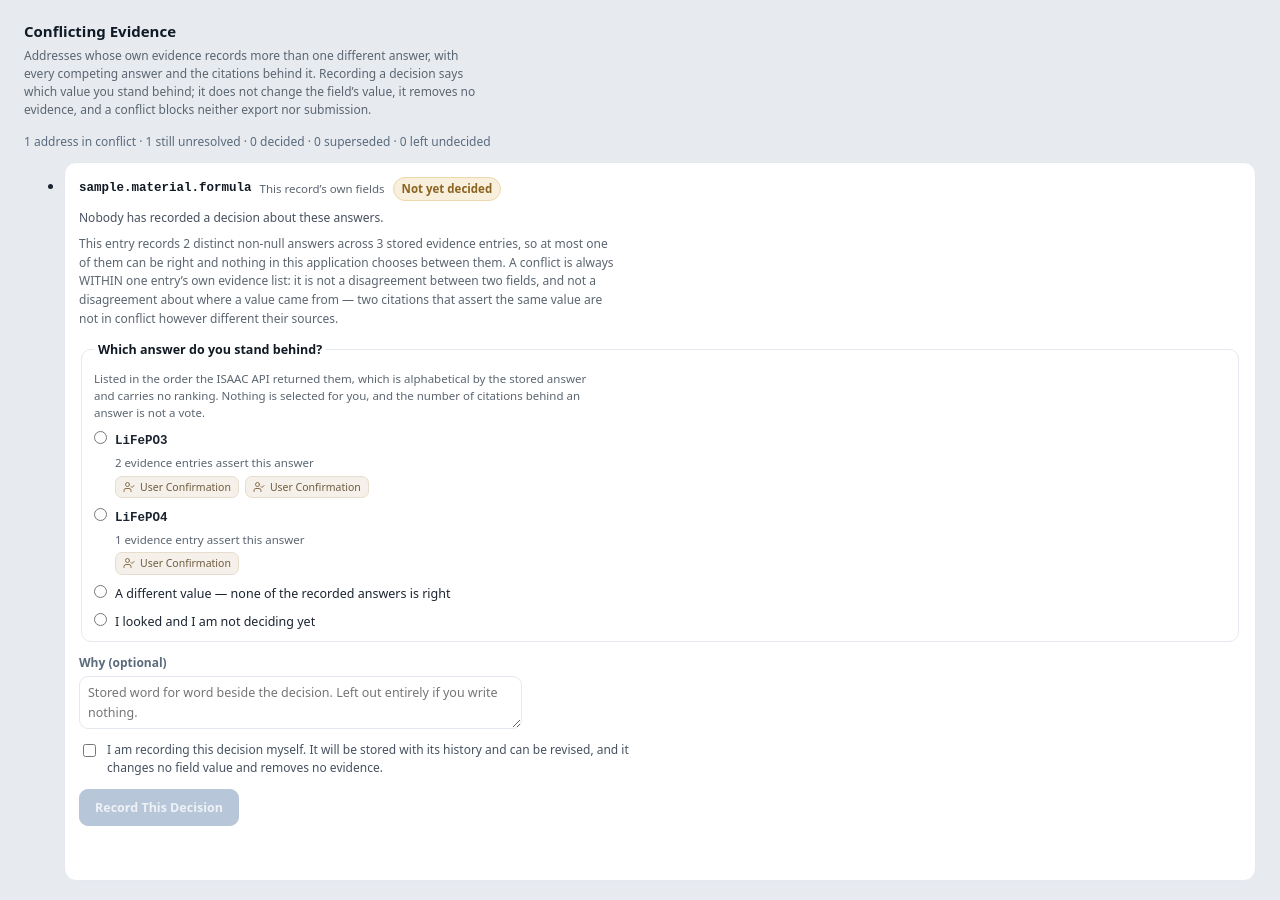
a typed refusal › renders the SERVER’S OWN sentence and its error code, not a generic failure
The image size is (1280, 900).
Click the radio button labelled "LiFePO4" at (100, 514), box [94,508,107,521]
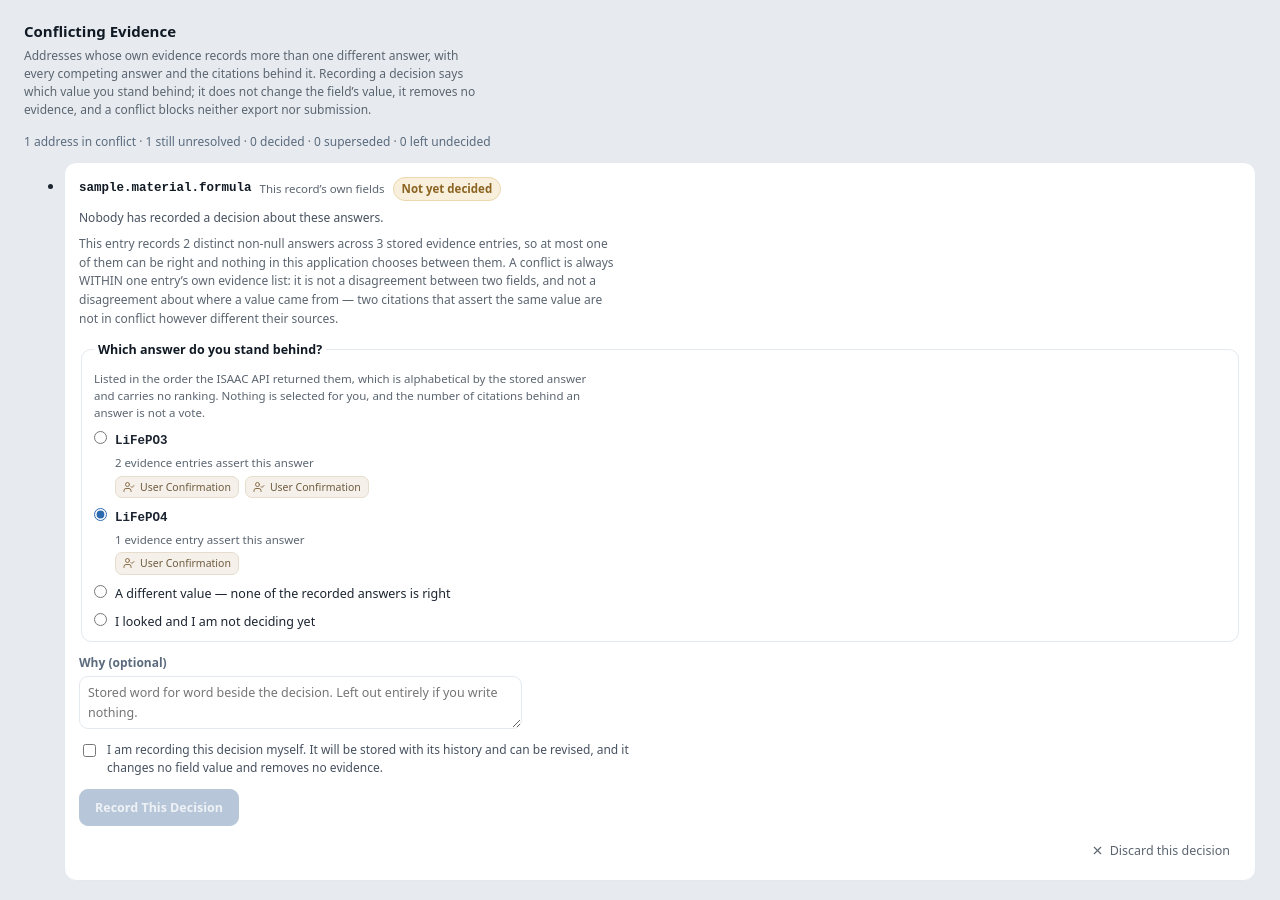
Click the checkbox labelled "I am recording this decision myself" at (90, 751), box [83,744,96,757]
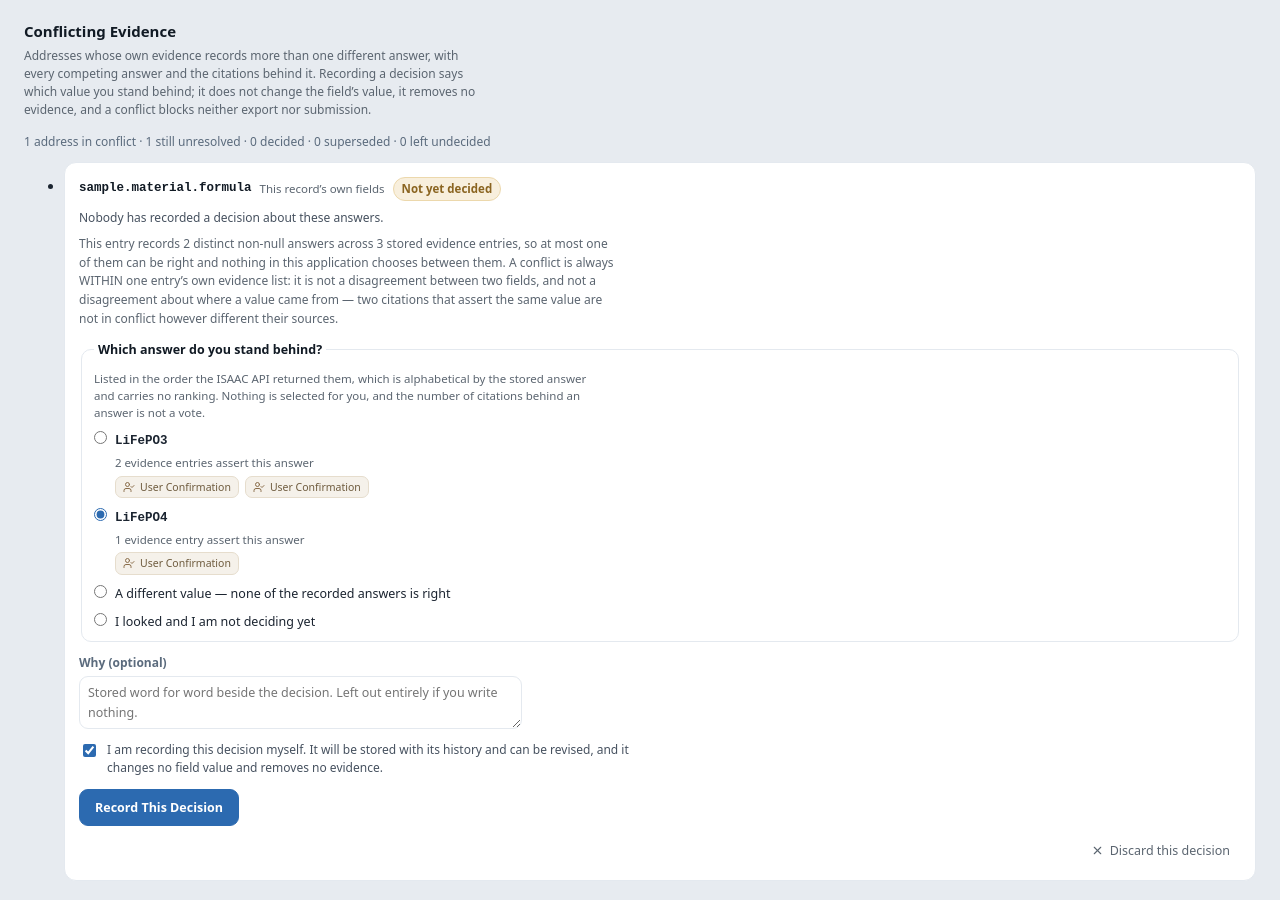
Click the button "Record This Decision" at (159, 808), box [79,789,239,826]
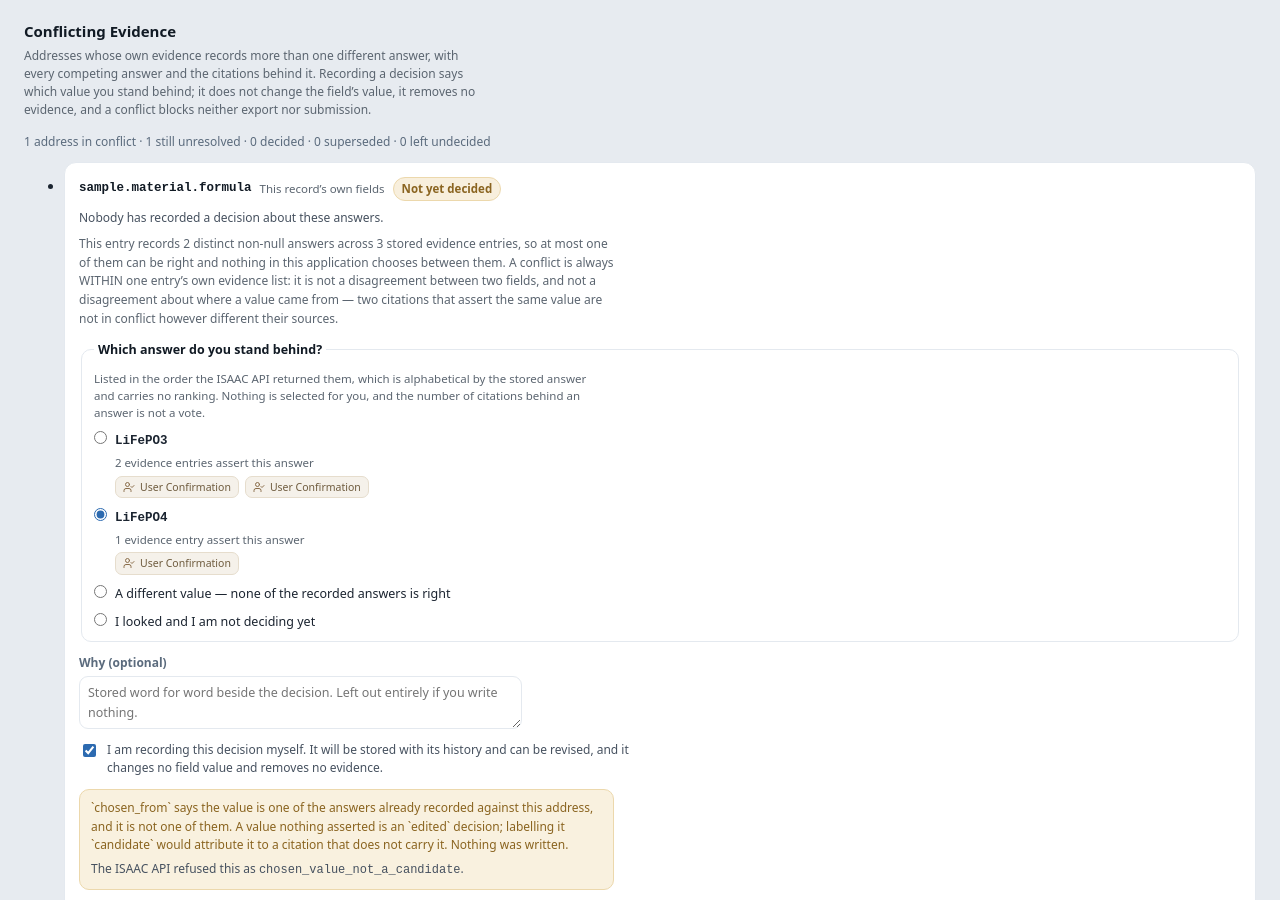
Result: the message shows "A value nothing asserted is an `edited` decision; labelling it `candidate` would attribute it" at [91,799,593,853]
Result: the message shows "chosen_value_not_a_candidate" at [259,863,460,877]
